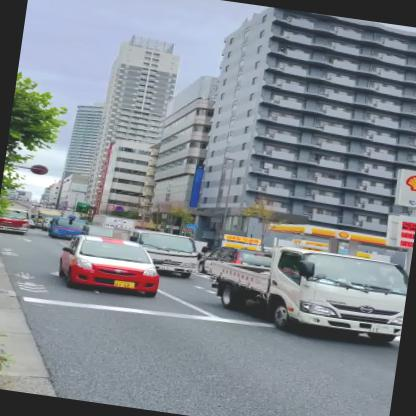bus: (45, 214, 88, 243), (0, 205, 31, 235)
car: (54, 232, 164, 300)
truck: (196, 236, 410, 348), (108, 226, 202, 280)
